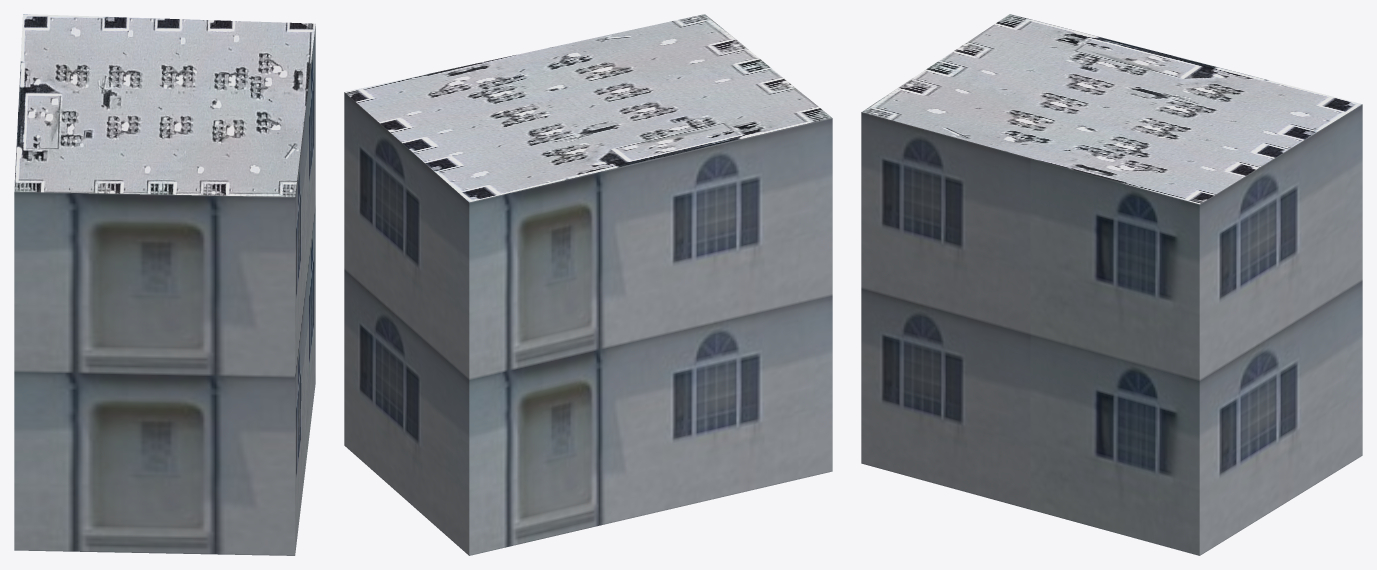
The model's file is ResTex__680.fbx.
3 views of the same model, side by side, from view 1: azimuth 30°, elevation 25°; view 2: azimuth 150°, elevation 25°; view 3: azimuth 270°, elevation 25° (orthographic). The views are drawn at different scales.
Visible parts, largest first — view 1: CityEngineMaterial_17_m, CityEngineMaterial_4_m; view 2: CityEngineMaterial_17_m, CityEngineMaterial_4_m; view 3: CityEngineMaterial_17_m, CityEngineMaterial_4_m.
Boxes of the visible parts, bbox=[...] form: CityEngineMaterial_17_m: bbox=[14, 26, 315, 555]; CityEngineMaterial_4_m: bbox=[14, 14, 315, 196]; CityEngineMaterial_17_m: bbox=[344, 92, 832, 555]; CityEngineMaterial_4_m: bbox=[345, 14, 831, 202]; CityEngineMaterial_17_m: bbox=[861, 104, 1362, 555]; CityEngineMaterial_4_m: bbox=[862, 14, 1361, 204].
Bounding box in the file's own units: 6.97 × 6 × 7.75.
2 materials, 2 textured.
